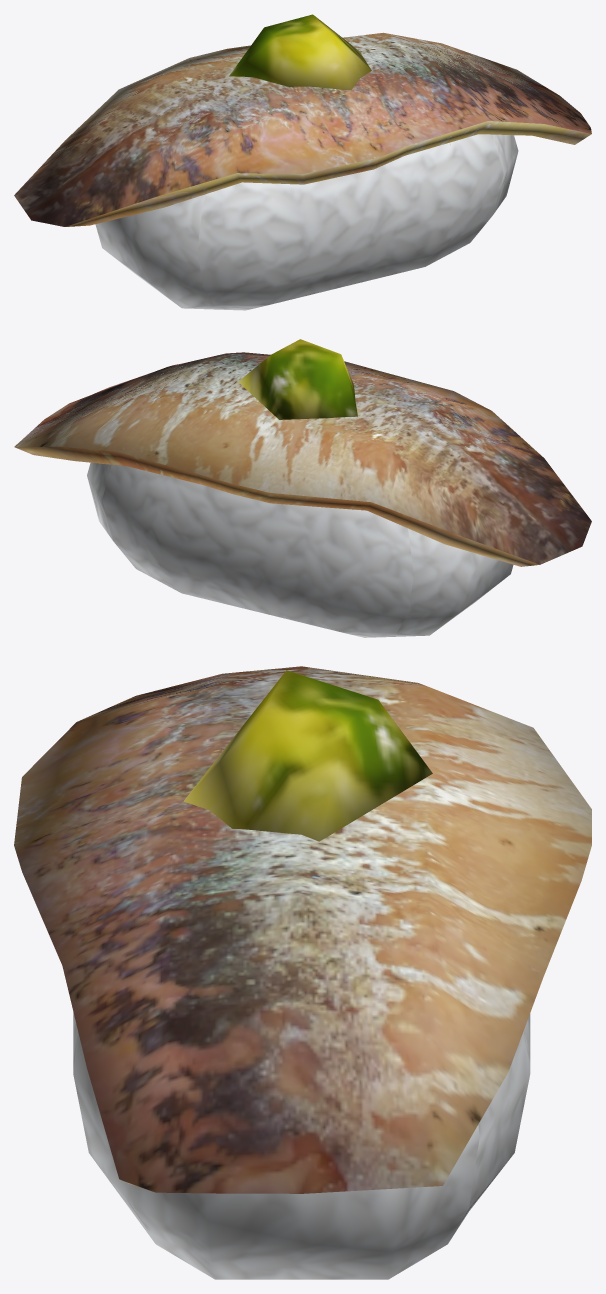
File: horse_mackerel_2.fbx
3 renders of one model, top to bottom at view 1: azimuth 30°, elevation 25°; view 2: azimuth 150°, elevation 25°; view 3: azimuth 270°, elevation 25°, orthographic. The views are drawn at different scales.
Parts seen in each view (by area): view 1: horse_mackerel_2; view 2: horse_mackerel_2; view 3: horse_mackerel_2.
Part boxes in pixels (x1,y1,x2,y2): horse_mackerel_2: [14, 14, 591, 310]; horse_mackerel_2: [14, 339, 591, 637]; horse_mackerel_2: [14, 666, 591, 1279].
Size of the model in its own units: 8.07 by 3.58 by 3.96.
